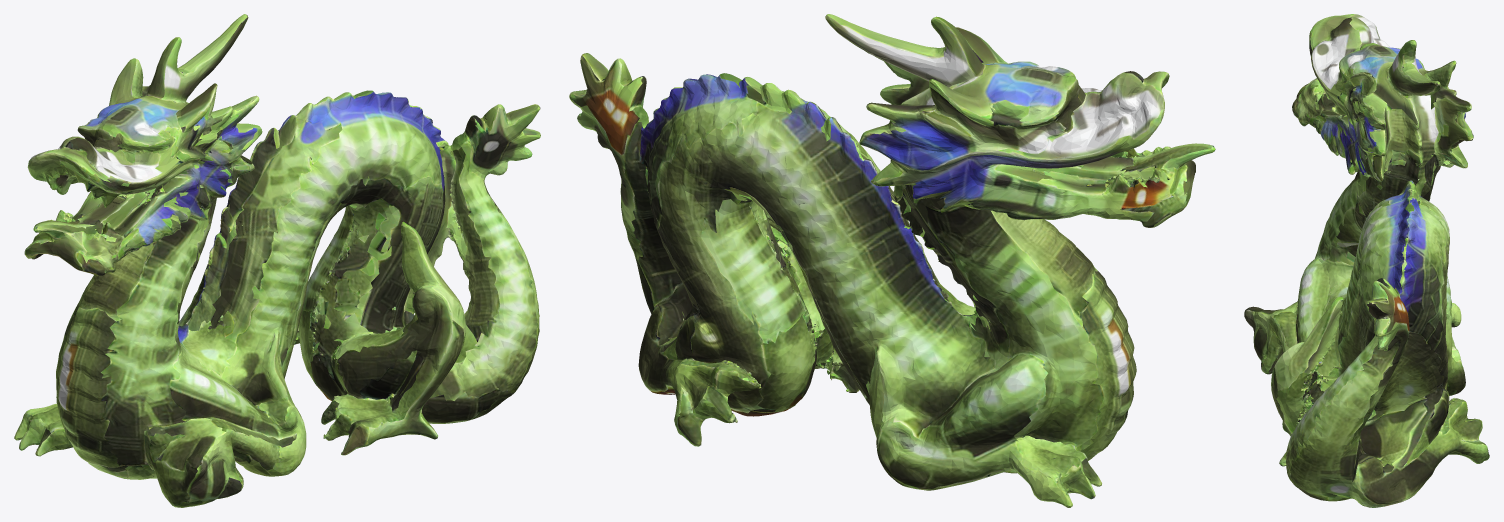
The model's file is textured_paint3d.glb.
3 views of the same model, side by side, from view 1: azimuth 30°, elevation 25°; view 2: azimuth 150°, elevation 25°; view 3: azimuth 270°, elevation 25° (orthographic). The views are drawn at different scales.
Parts seen in each view (by area): view 1: Node-Mesh; view 2: Node-Mesh; view 3: Node-Mesh.
Boxes of the visible parts, box(x1,y1,x2,y2) form: Node-Mesh: box(14, 14, 540, 507); Node-Mesh: box(569, 14, 1215, 507); Node-Mesh: box(1244, 14, 1489, 507).
Size of the model in its own units: 2 by 1.41 by 0.8946.
1 material, 1 textured.
